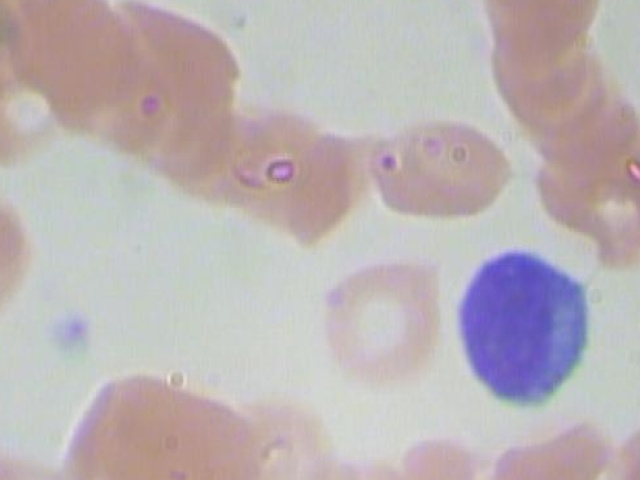RBC: (359, 105, 525, 220), (311, 258, 450, 388), (193, 104, 329, 221), (6, 0, 142, 100), (0, 174, 36, 344), (470, 0, 598, 25), (307, 457, 443, 480), (606, 417, 640, 480), (131, 467, 260, 480), (450, 479, 578, 480)
WBC: (454, 246, 603, 414)
